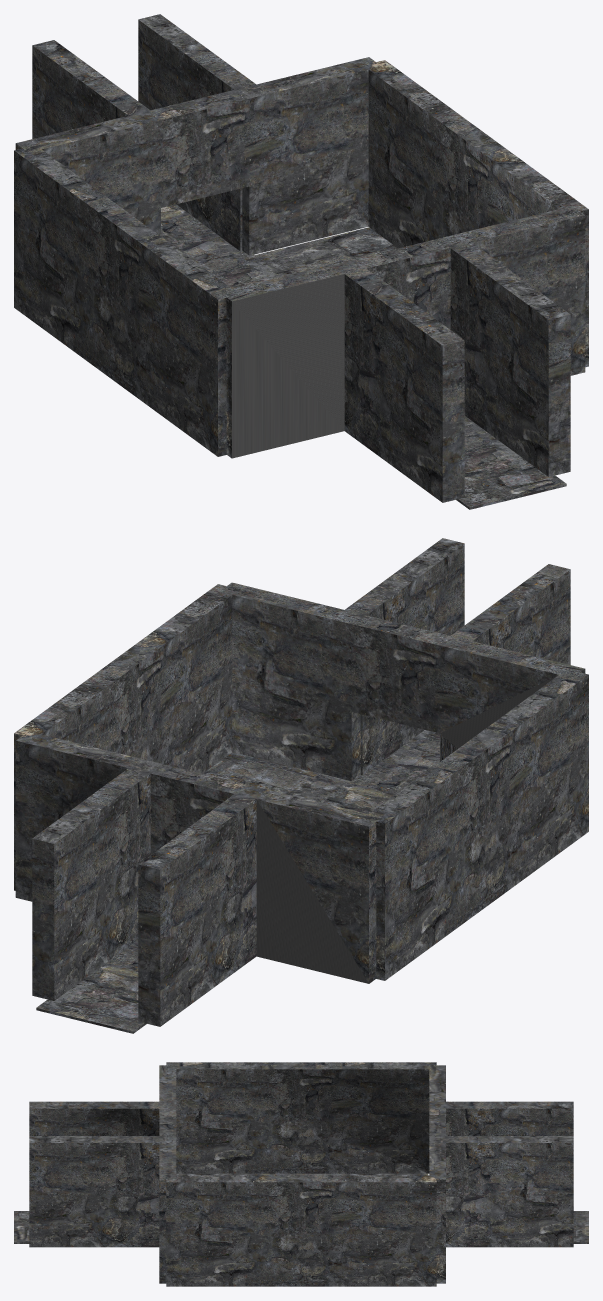
Rendered from parts_onein_oneout.fbx.
3 renders of one model, top to bottom at view 1: azimuth 30°, elevation 25°; view 2: azimuth 150°, elevation 25°; view 3: azimuth 270°, elevation 25°, orthographic. The views are drawn at different scales.
Parts seen in each view (by area): view 1: parts; view 2: parts; view 3: parts.
Boxes of the visible parts, <box> form: parts: <box>14,14,588,509</box>; parts: <box>14,538,588,1033</box>; parts: <box>14,1062,588,1286</box>.
Size of the model in its own units: 1680 by 690 by 3400.
Materials: 1 (1 with a texture image).
